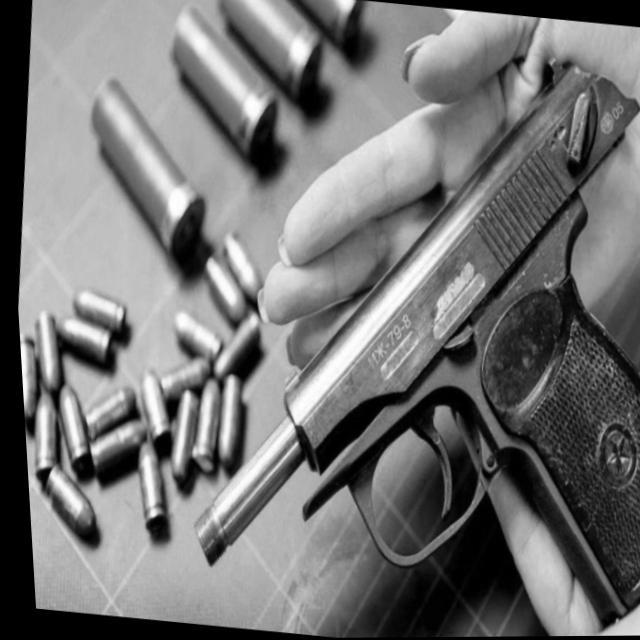weapon: (147, 15, 640, 635)
